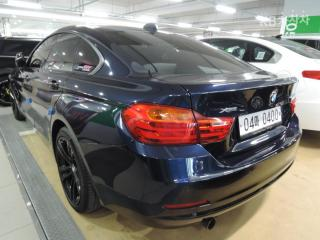0: (243, 117, 250, 132), (262, 112, 267, 125), (274, 109, 279, 121), (270, 110, 275, 121)
4: (249, 115, 255, 129), (266, 111, 271, 123)
plate: (232, 103, 286, 137)
아: (254, 115, 260, 128)
